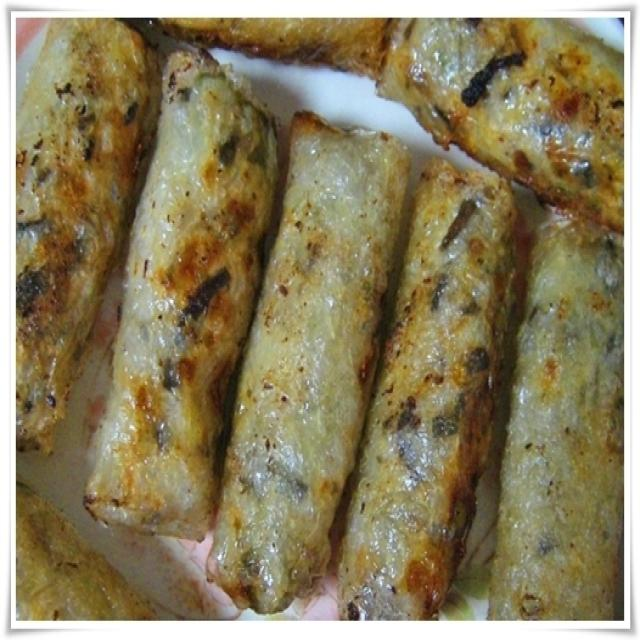炸货点心: (47, 46, 594, 608)
